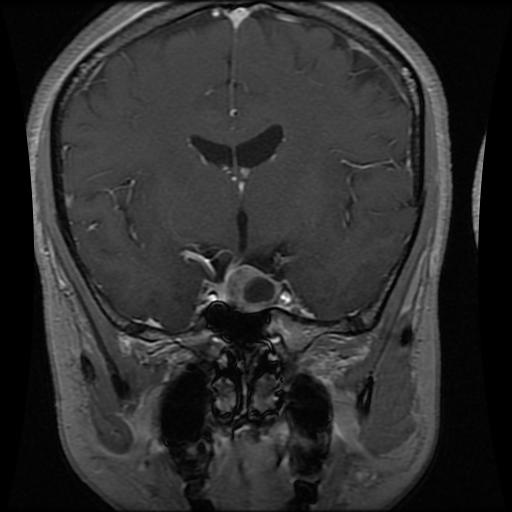Pituirity_tumour: (223, 265, 280, 310)
